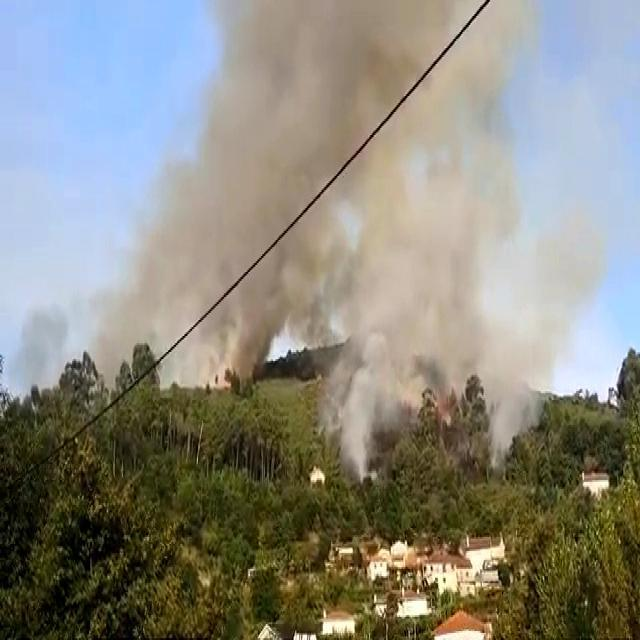Smoke: (100, 1, 594, 463)
